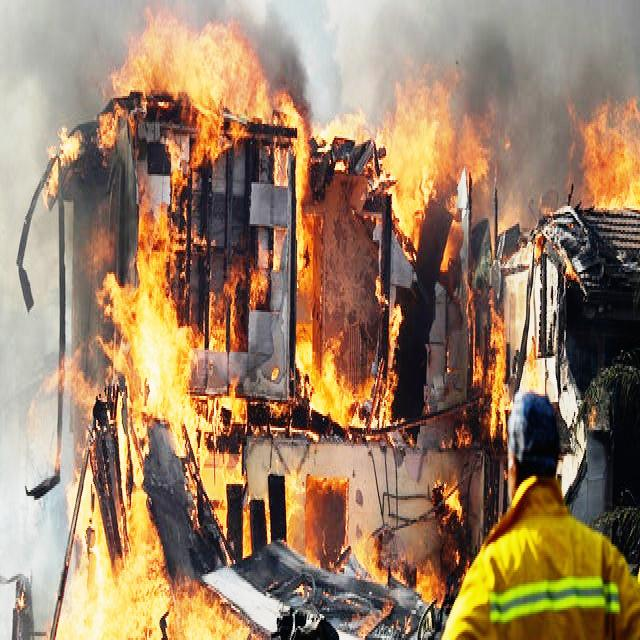asap: (40, 193, 254, 640), (368, 1, 640, 233), (29, 1, 319, 213), (1, 1, 349, 129), (316, 55, 497, 283), (557, 85, 640, 232), (292, 309, 372, 446), (352, 525, 461, 623), (464, 259, 515, 447), (365, 271, 411, 442), (300, 459, 353, 583), (284, 462, 308, 555), (437, 476, 471, 520), (264, 488, 276, 551)
